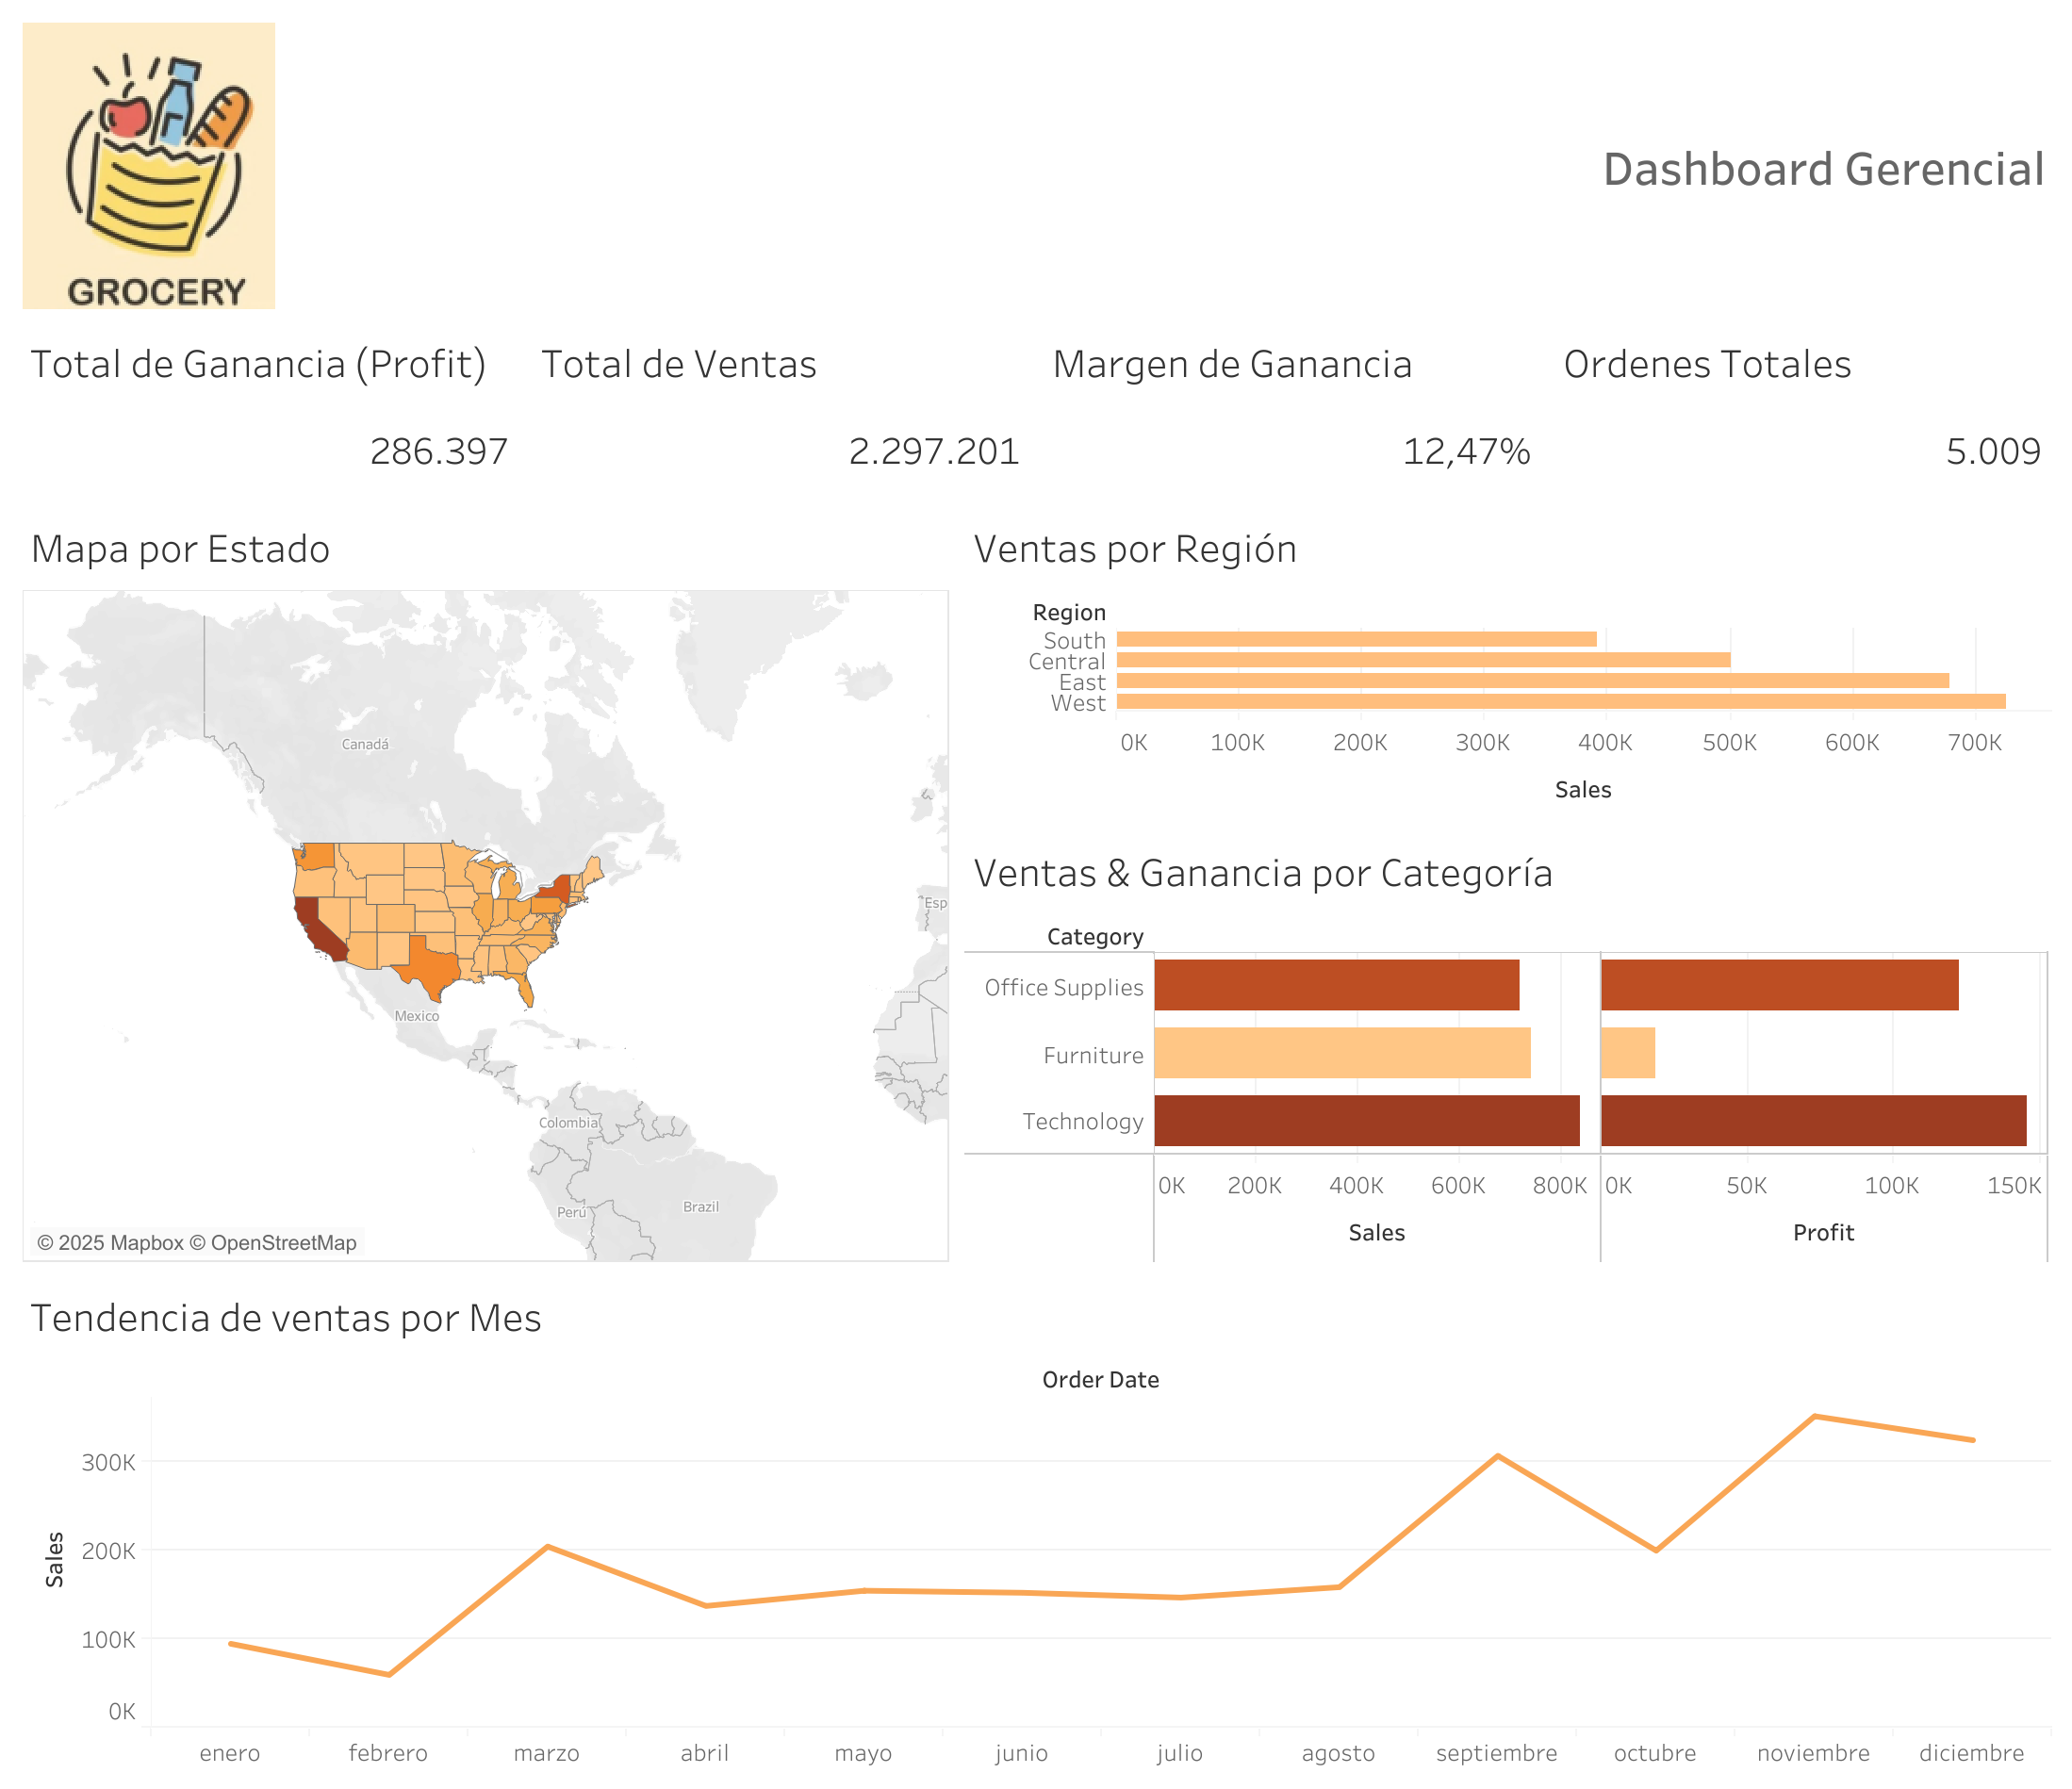

The dashboard page shown, as its layout file describes it:
{"tool":"tableau","page":{"name":"Dashboard Gerencial","canvas":[1100,950],"ordinal":0},"visuals":[{"type":"image","param":"/private/var/folders/ww/khn19yqj7h128p9f6404rx_00000gn/T/com.apple.Photos.NSItem","box":[8,8,553,160]},{"type":"text","box":[561,8,531,160]},{"type":"worksheet","title":"Total de Ganancia (Profit)","mark":"Automatic","box":[8,168,271,98]},{"type":"worksheet","title":"Total de Ventas","mark":"Automatic","box":[279,168,271,98]},{"type":"worksheet","title":"Margen de Ganancia","mark":"Automatic","box":[550,168,271,98]},{"type":"worksheet","title":"Ordenes Totales","mark":"Automatic","box":[821,168,271,98]},{"type":"worksheet","title":"Mapa por Estado","mark":"Multipolygon","box":[8,266,500,408.3]},{"type":"worksheet","title":"Ventas por Región","mark":"Automatic","rows":["Region"],"cols":["Sales"],"box":[508,266,584,172]},{"type":"worksheet","title":"Ventas & Ganancia por Categoría","mark":"Automatic","rows":["Category"],"cols":["Sales","Profit"],"box":[508,438,584,236.3]},{"type":"worksheet","title":"Tendencia de ventas por Mes","mark":"Automatic","rows":["Sales"],"cols":["Order Date"],"box":[8,674.3,1084,267.7]}]}

Visuals, with their boxes in screenshot pixels (x1, y1, x2, y2), scaled from the page's 1100x950 canvas onto the 2072x1789 screenshot:
image: [15,15,1057,317]
text: [1057,15,2057,317]
"Total de Ganancia (Profit)" worksheet: [15,317,525,501]
"Total de Ventas" worksheet: [525,317,1036,501]
"Margen de Ganancia" worksheet: [1036,317,1547,501]
"Ordenes Totales" worksheet: [1547,317,2057,501]
"Mapa por Estado" worksheet (Multipolygon marks): [15,501,957,1270]
"Ventas por Región" worksheet: [957,501,2057,825]
"Ventas & Ganancia por Categoría" worksheet: [957,825,2057,1270]
"Tendencia de ventas por Mes" worksheet: [15,1270,2057,1774]
